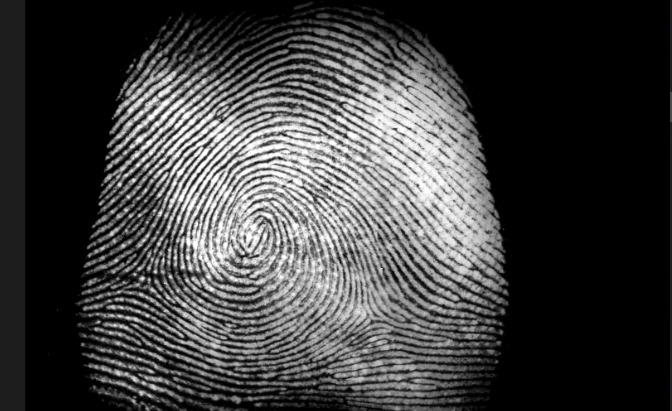nucelo: (245, 215, 273, 246)
verticilo: (126, 277, 164, 300), (356, 306, 389, 330)
